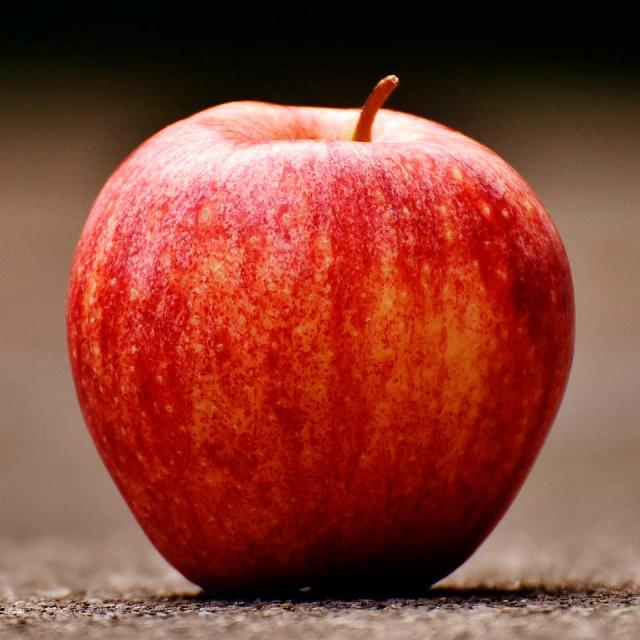manzana: (49, 57, 595, 617)
